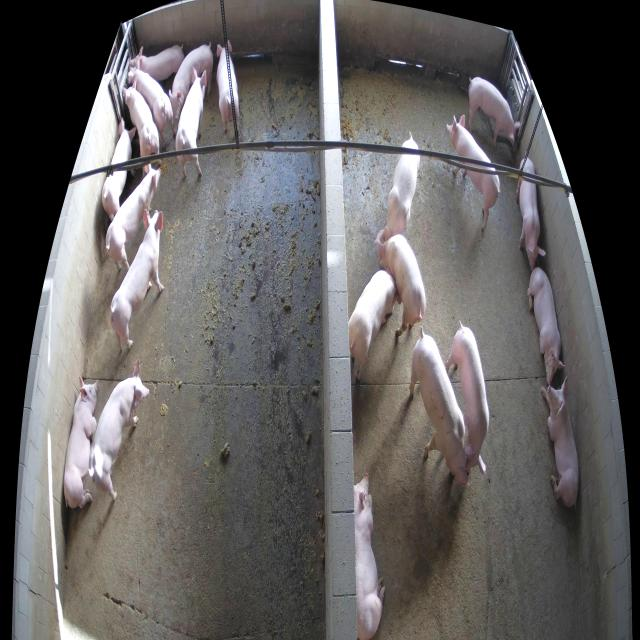pig: (409, 326, 475, 484), (90, 357, 149, 500), (109, 208, 164, 352), (445, 321, 489, 477), (446, 115, 500, 229), (348, 265, 400, 381), (106, 162, 161, 270), (377, 226, 426, 336), (354, 473, 385, 638), (375, 132, 420, 245), (540, 376, 578, 505), (128, 55, 176, 150), (527, 265, 565, 383), (64, 377, 98, 508), (122, 78, 162, 178), (468, 77, 521, 150), (101, 118, 136, 224), (516, 156, 546, 271), (175, 66, 206, 177), (169, 42, 213, 119), (216, 39, 241, 133), (130, 44, 184, 81)
